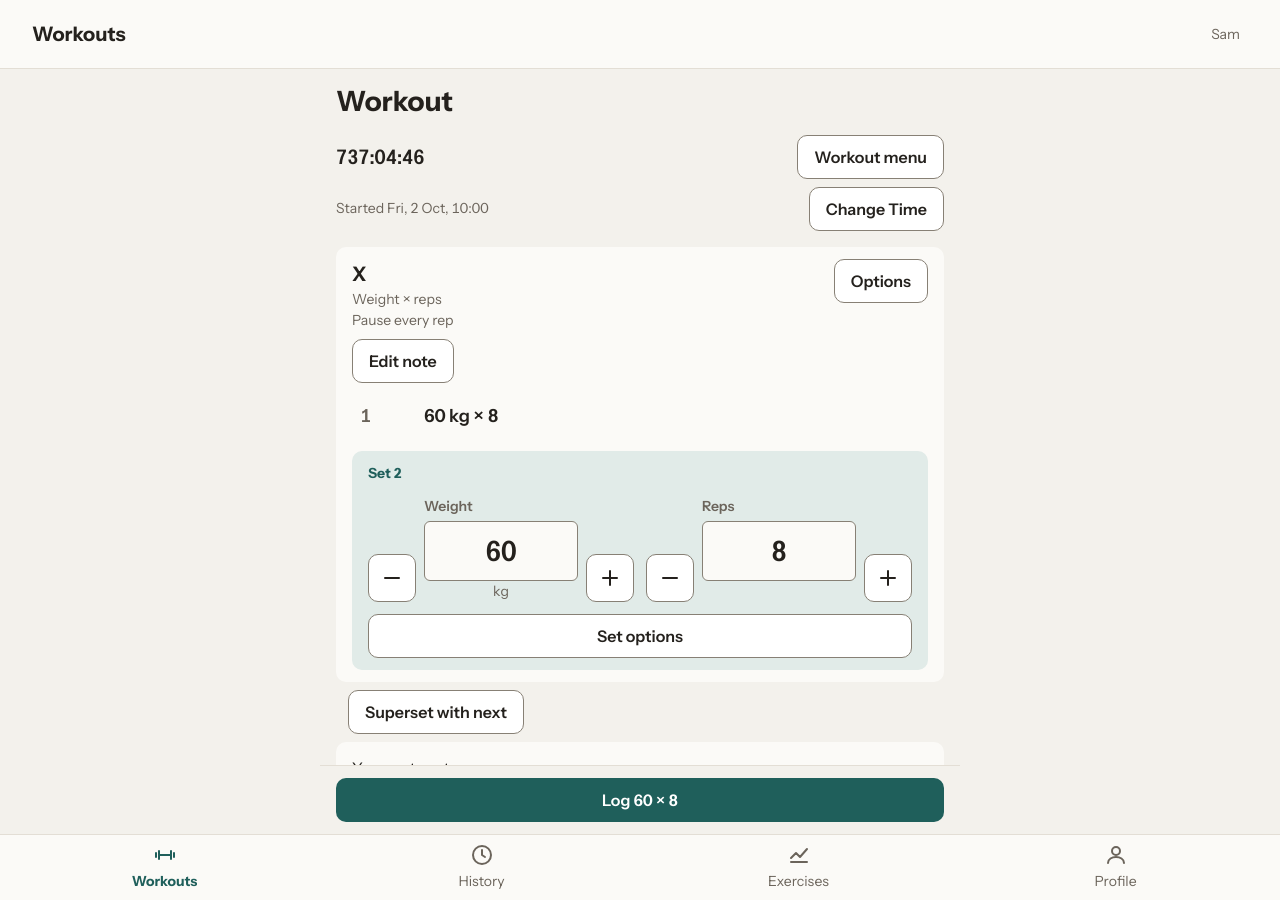
Test case: 10.3 AC28 — delivery › a note that failed shows 'Couldn't save' and Discard; Discard puts the server's text back
Expected: the heading "Workout" is shown, [336,84,453,118]
Click the button with aria-label "Edit note for X" at (403, 361), box [352,339,454,383]
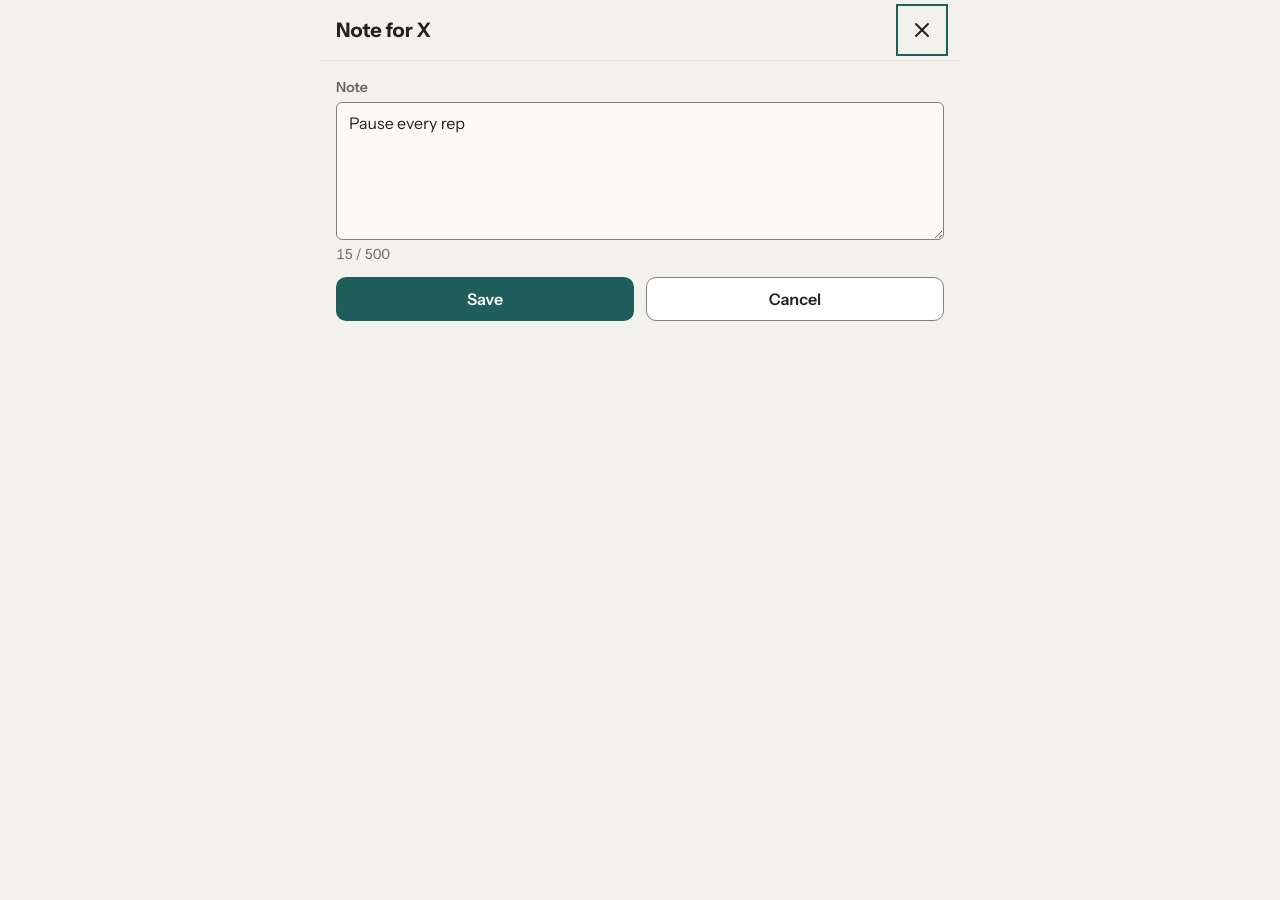
Replace the text in the text box labelled "Note" with "Will fail" at (640, 171), box [336,102,944,240]
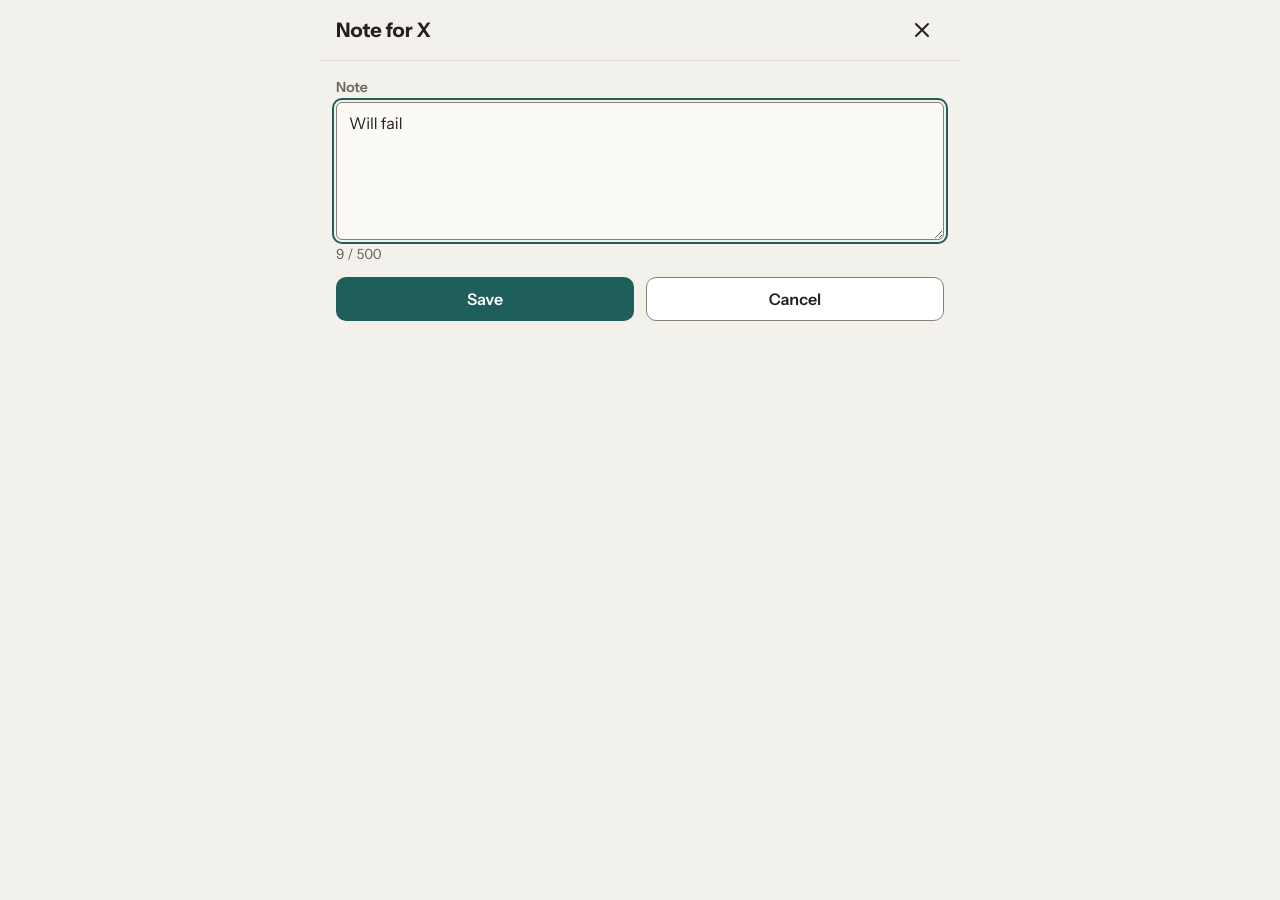
Click the button "Save" at (485, 299), box [336,277,634,321]
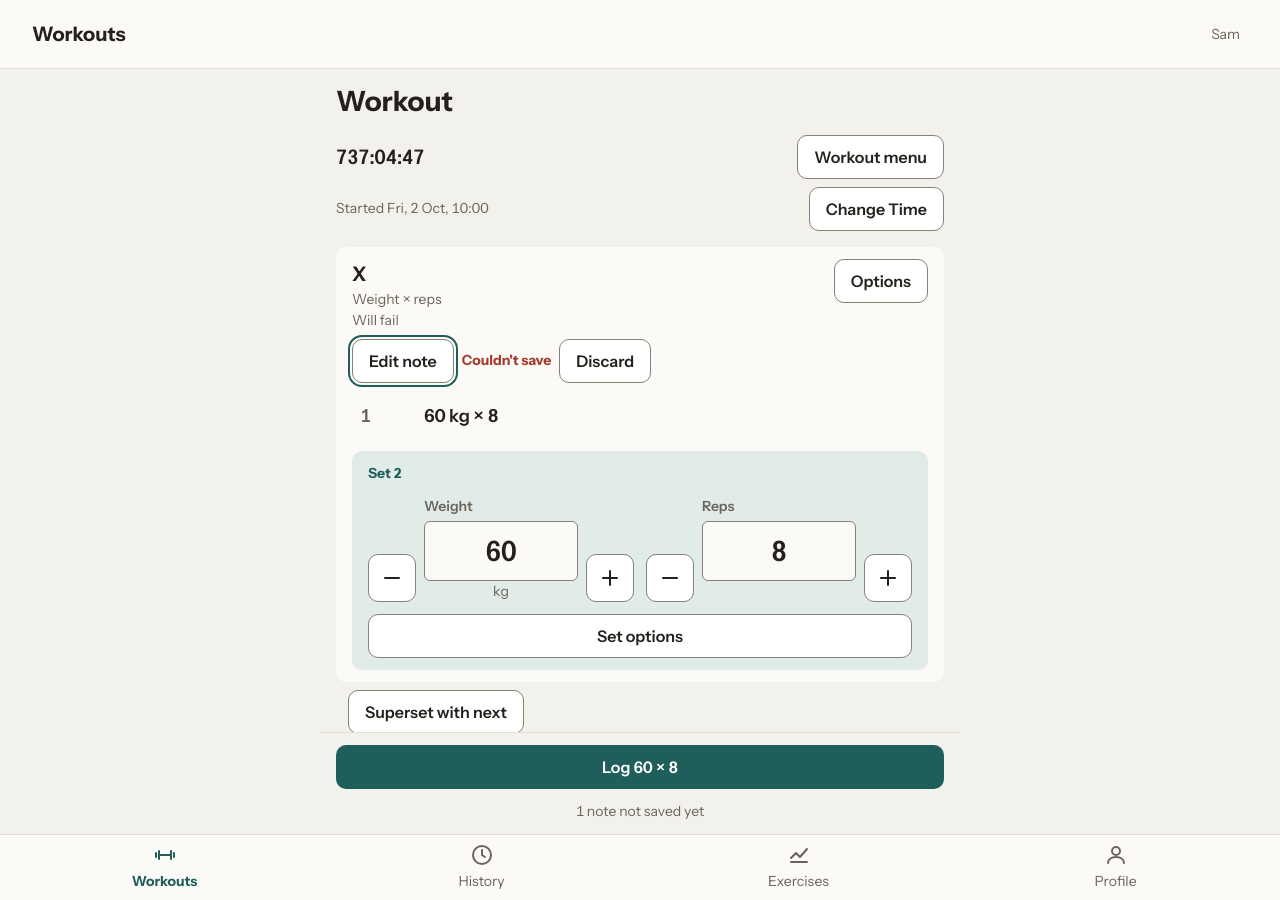
Now the text "Couldn't save" is shown, box [462,350,551,371]
Now the text "Will fail" is shown, box [352,311,399,329]
Click the button with aria-label "Discard note " at (605, 361), box [559,339,651,383]
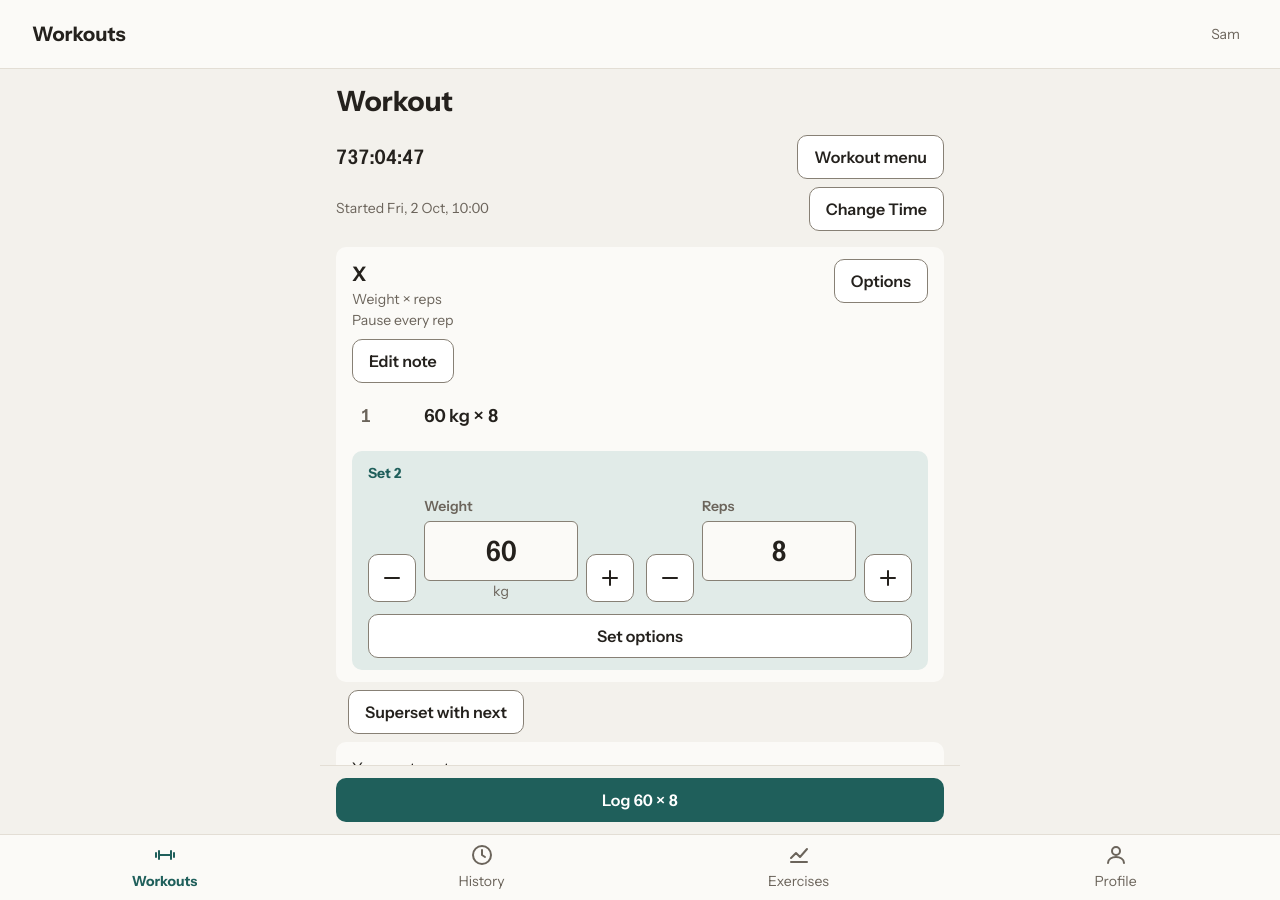
Now the text "Pause every rep" is shown, box [352,310,454,331]
